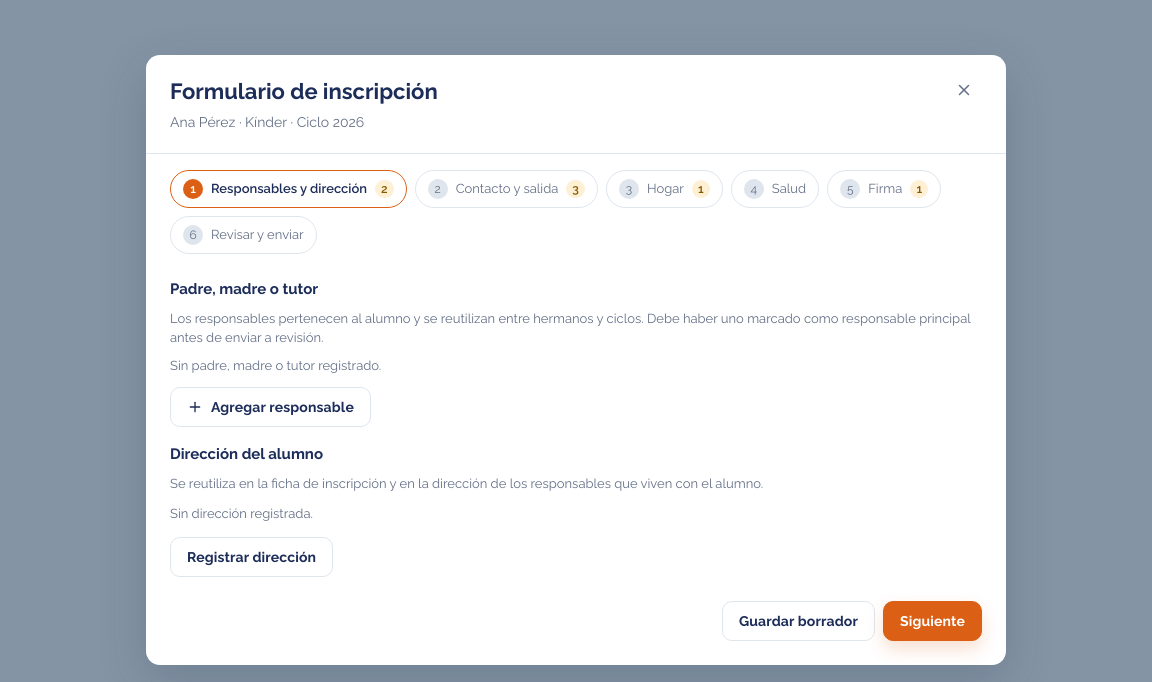
Scenario: formulario de inscripción por pasos › el paso Responsables usa el panel del alumno y no se guarda con el formulario
expect the text "Sin padre, madre o tutor registrado." is shown: met, box 170,358 -> 381,372
expect the button "Agregar responsable" is shown: met, box 170,387 -> 371,427
Click the button "Siguiente" at (932,621), box 883,601 -> 982,641
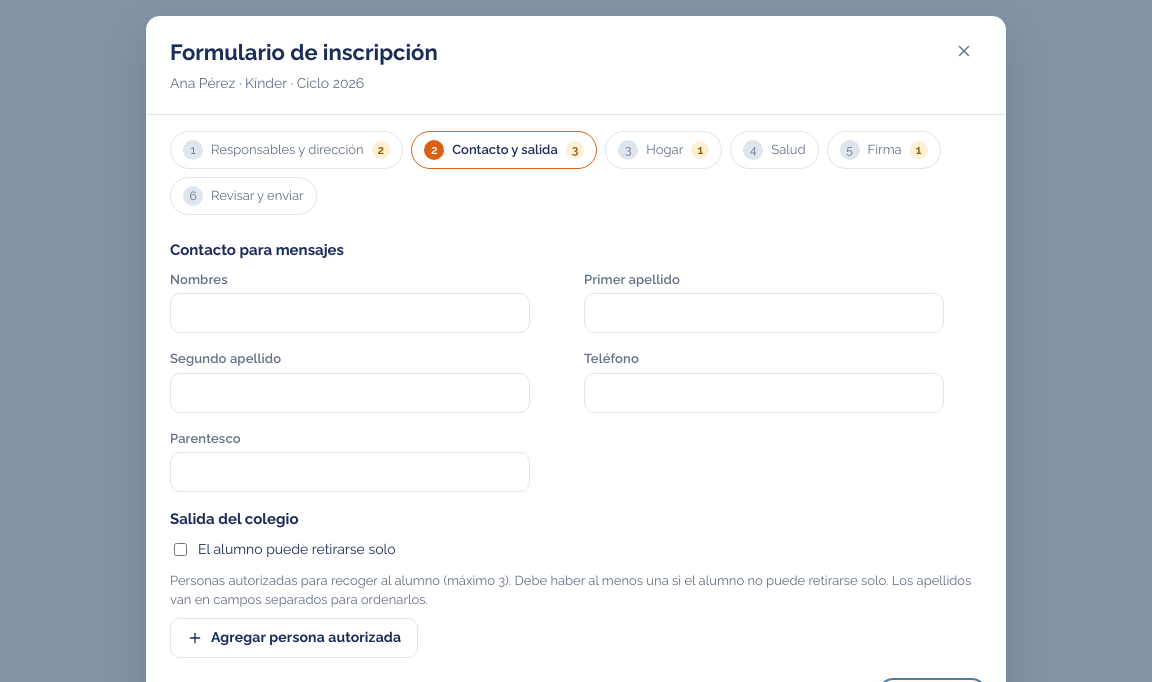
expect the heading "Contacto para mensajes" is shown: met, box 170,241 -> 344,259
